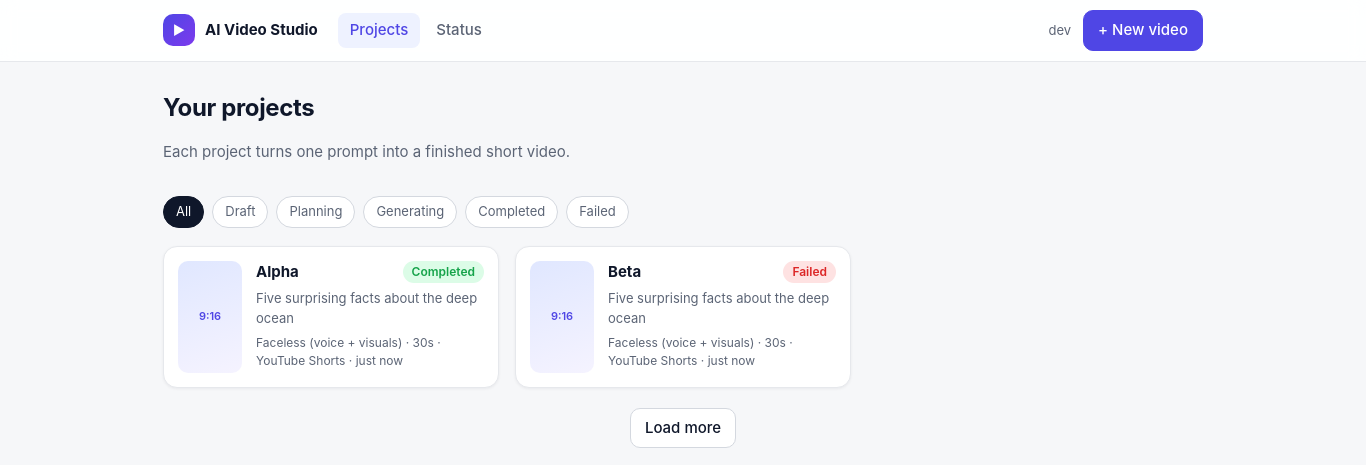
Test: projects list › renders project cards with status badges and loads more pages
Expected: the text "Completed" is shown, 403,260 -> 484,282
Expected: the text "Failed" is shown, 783,260 -> 836,282
Click the button "Load more" at (683, 428), box 630,408 -> 736,448
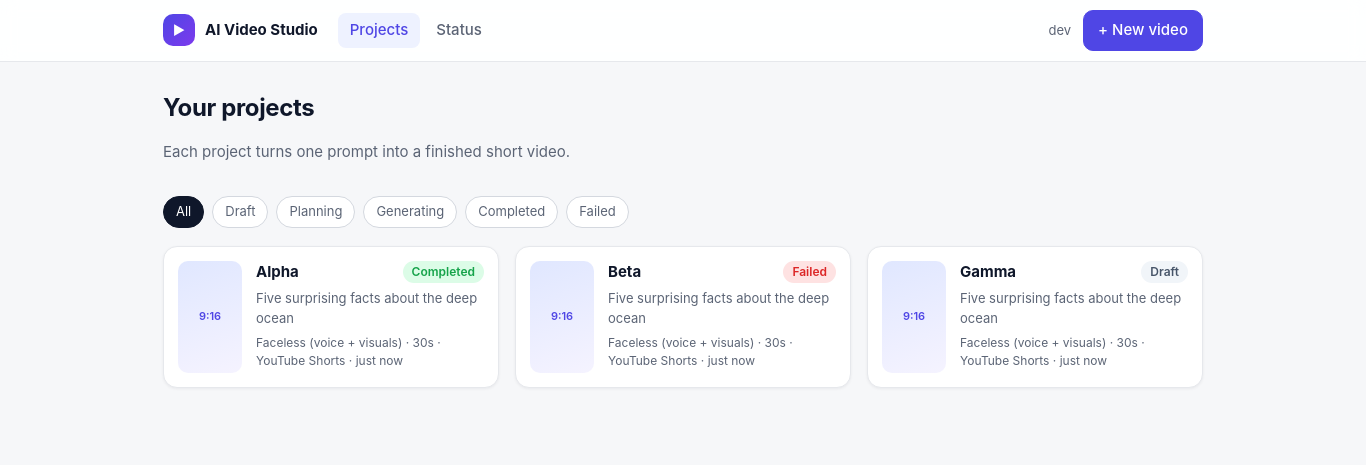
Now the link "Gamma" is shown, box 867,246 -> 1203,388
Now the button "Load more" is gone
